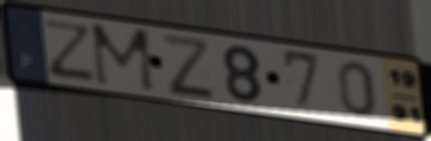0: (334, 59, 382, 122)
7: (281, 47, 324, 116)
8: (220, 43, 265, 105)
M: (87, 21, 159, 96)
Z: (157, 31, 219, 100), (44, 17, 97, 83)
